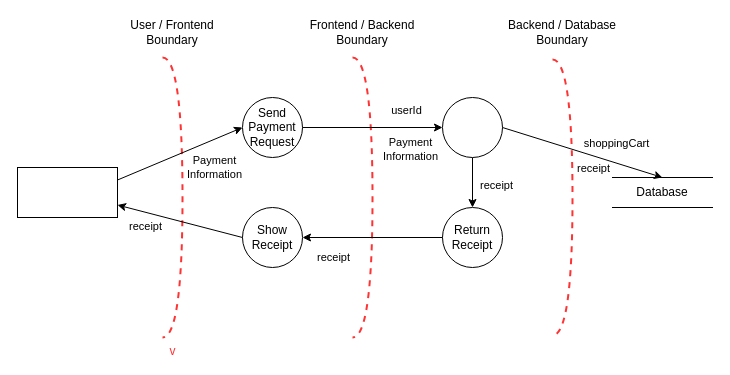
Some shapes in this 730 by 375 pixel diagram are drawn without their labels. Each missing label, with the centre of its shape:
"Client" goes at point (67, 192).
"Payment Process" goes at point (472, 127).
